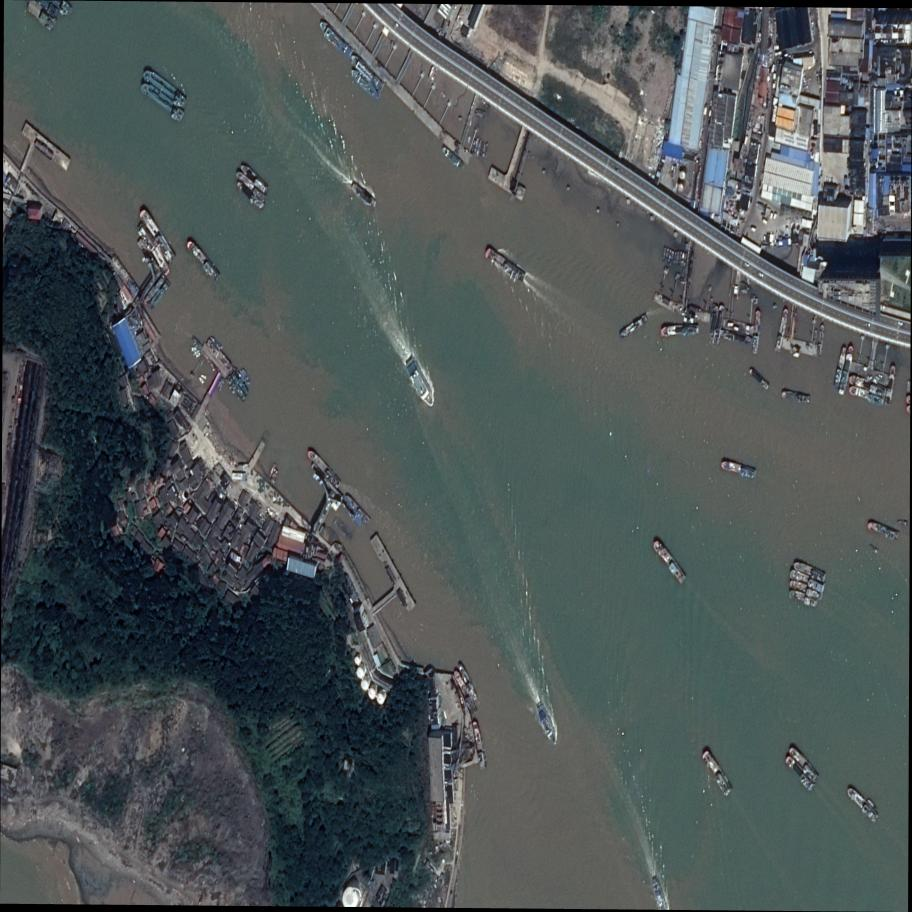ship: (137, 207, 177, 264), (137, 79, 187, 122), (140, 68, 190, 108), (135, 223, 172, 276), (649, 537, 689, 586), (402, 353, 437, 408), (481, 246, 529, 285), (699, 748, 735, 798), (184, 237, 223, 283), (304, 447, 344, 490), (316, 18, 356, 59), (348, 52, 387, 92), (844, 785, 881, 824), (782, 754, 816, 792), (452, 668, 478, 717), (786, 746, 820, 783), (534, 700, 559, 745), (349, 68, 383, 101), (234, 170, 268, 202), (238, 162, 270, 193), (205, 338, 234, 372), (847, 373, 888, 397), (347, 178, 379, 208), (342, 493, 372, 525), (616, 311, 650, 339), (787, 570, 826, 593), (846, 384, 886, 406), (235, 181, 265, 210), (456, 662, 478, 701), (718, 459, 757, 480), (838, 344, 854, 395), (143, 274, 168, 306), (792, 560, 828, 582), (787, 579, 824, 600), (147, 278, 171, 310), (472, 720, 487, 771), (439, 144, 467, 170), (865, 520, 901, 540), (774, 307, 789, 353), (833, 345, 847, 390), (787, 589, 819, 607), (226, 375, 247, 402), (719, 330, 752, 346), (747, 367, 771, 389), (660, 324, 699, 337), (230, 371, 250, 396), (780, 388, 811, 404), (885, 364, 896, 406), (709, 304, 719, 343), (715, 304, 724, 344), (752, 310, 760, 354), (209, 335, 224, 351), (818, 324, 825, 356)
storage-tank: (342, 886, 362, 907), (356, 664, 367, 680), (376, 690, 387, 705), (368, 686, 378, 700), (353, 654, 362, 666)
